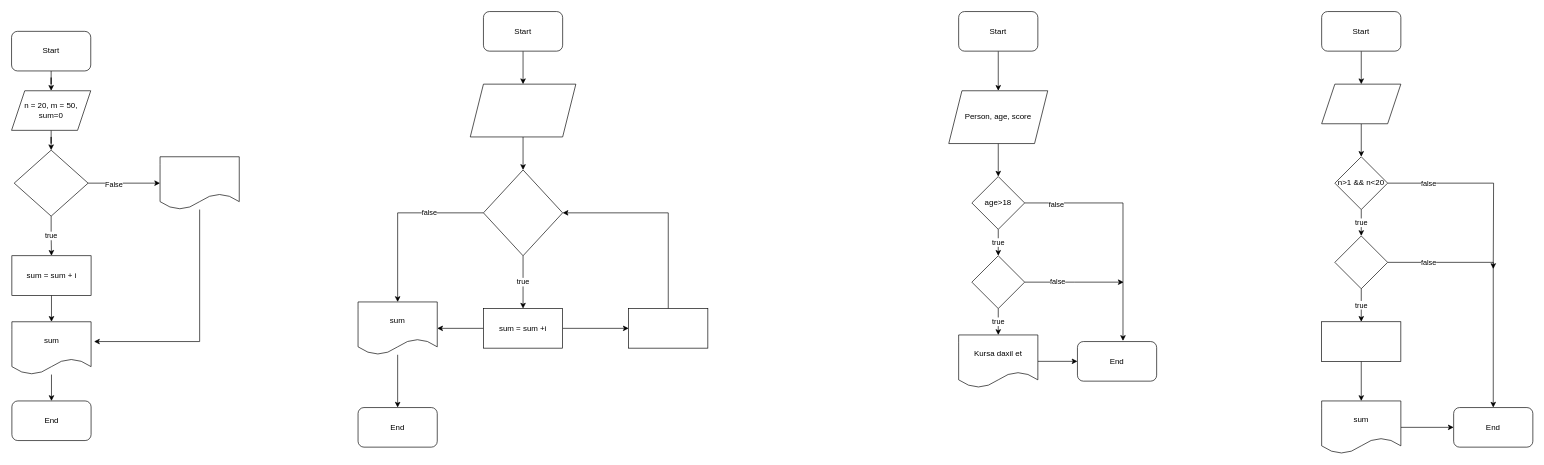
Image size: 1544x465. Some labels were removed from this diagram. Here are the shapes that lost their labels. From the top down, the centre of each, then its label:
At point 523,110: "n>1, m<100, sum=0".
At point 1361,103: "n, sum=0".
At point 51,182: "i=n; i<m; i++".
At point 199,183: "Şərt ödənmədi".
At point 523,212: "i=n; i<m".
At point 998,282: "score>50".
At point 1361,262: "n%2==1".
At point 668,328: "i++".
At point 1361,341: "sum=sum+n".
